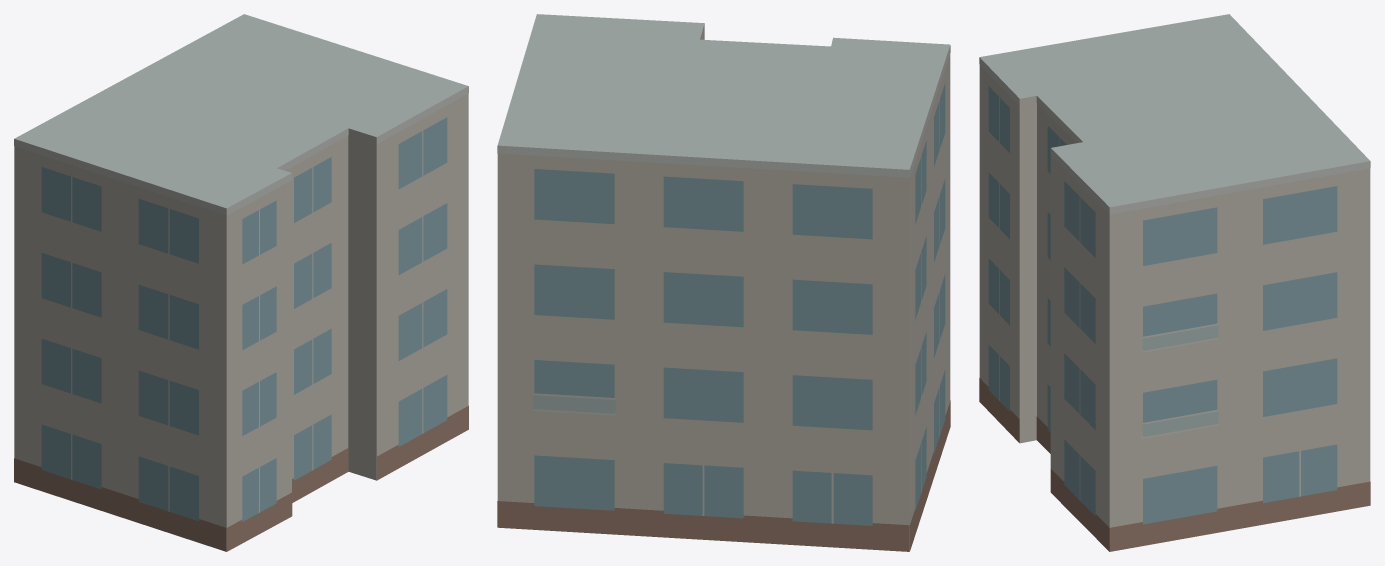
Rendered from survey-upis-32861269.glb.
The picture shows the model from 3 angles, left to right: view 1: azimuth 30°, elevation 25°; view 2: azimuth 150°, elevation 25°; view 3: azimuth 270°, elevation 25°; orthographic projection. The views are drawn at different scales.
Visible parts, largest first — view 1: survey-upis-32861269.tmp; view 2: survey-upis-32861269.tmp; view 3: survey-upis-32861269.tmp.
Part boxes in pixels (<box>): survey-upis-32861269.tmp: <box>14,14,468,551</box>; survey-upis-32861269.tmp: <box>497,14,950,551</box>; survey-upis-32861269.tmp: <box>979,14,1370,551</box>.
Bounding box in the file's own units: 14.09 × 11.7 × 12.04.
